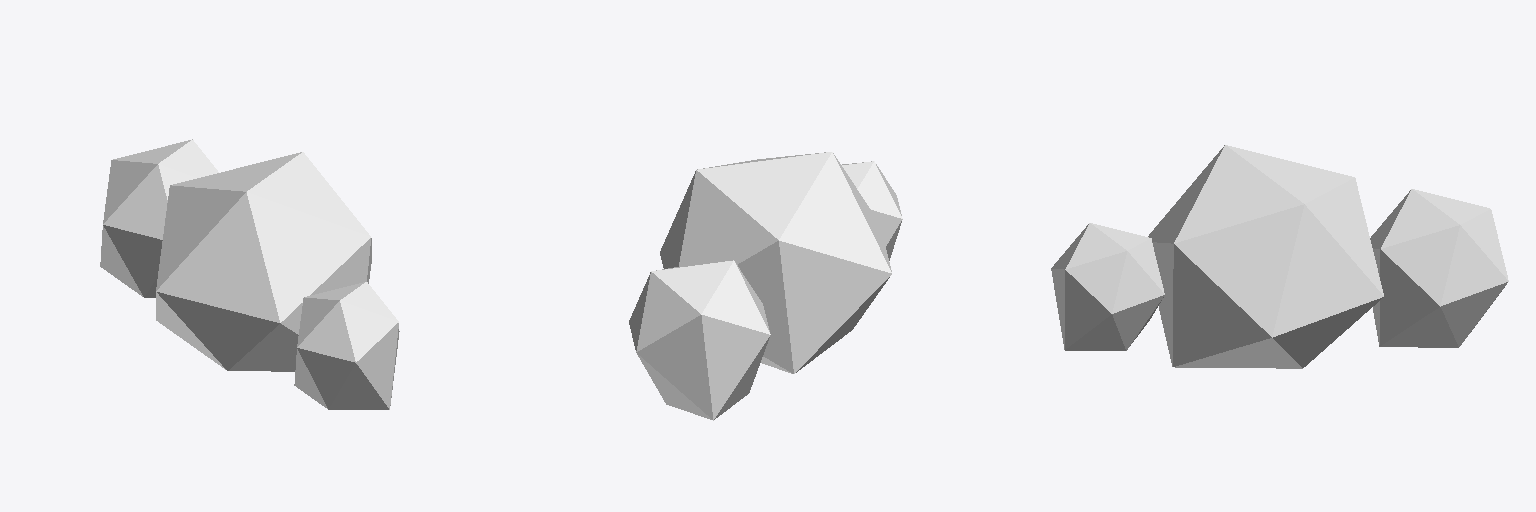
File: cloud4.obj
3 views of the same model, side by side, from view 1: azimuth 30°, elevation 25°; view 2: azimuth 150°, elevation 25°; view 3: azimuth 270°, elevation 25° (orthographic).
Size of the model in its own units: 7.93 by 6.29 by 14.